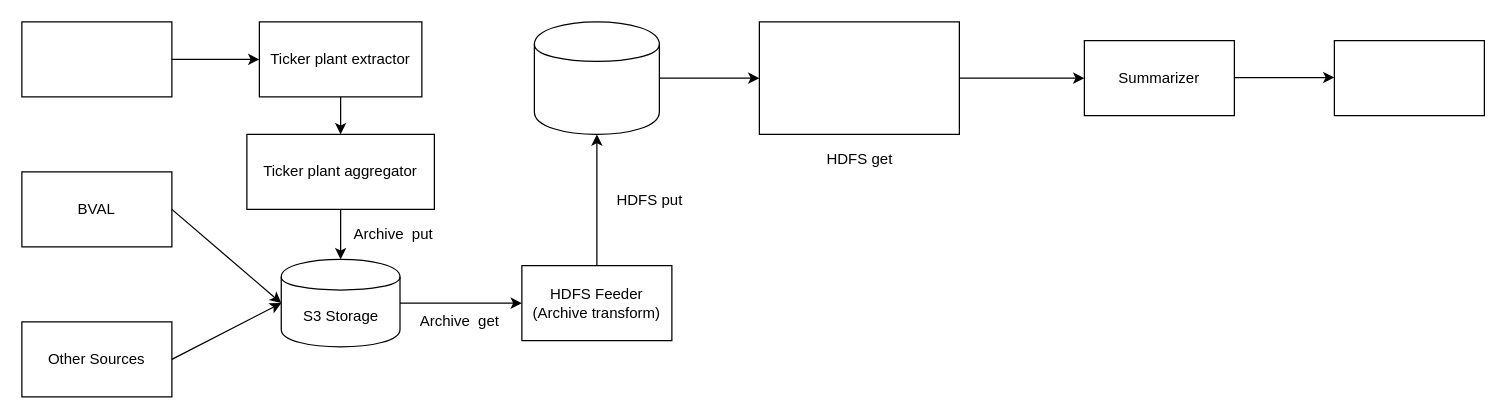
The diagram is 1506 pixels wide and 419 high, and some of its shapes have lost their labels. The shapes that lost their labels are listed below. From the top down, each one's centre as x and y in pixels, then its label:
point 96,59: Ticker Plant
point 596,77: HDFS DataStore
point 858,77: HDFS API pandas dataframe
point 1408,77: Frtb Calc
